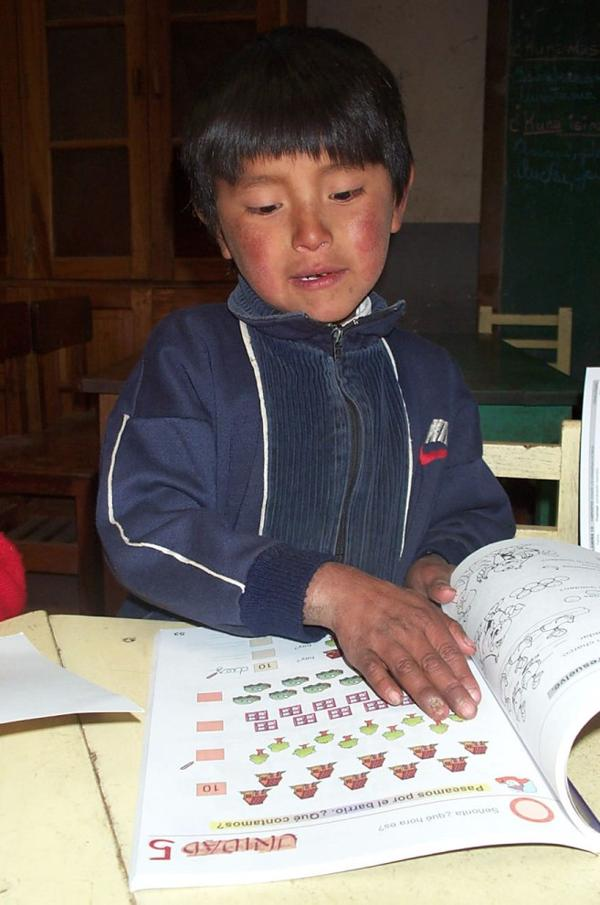person: (95, 31, 520, 723)
